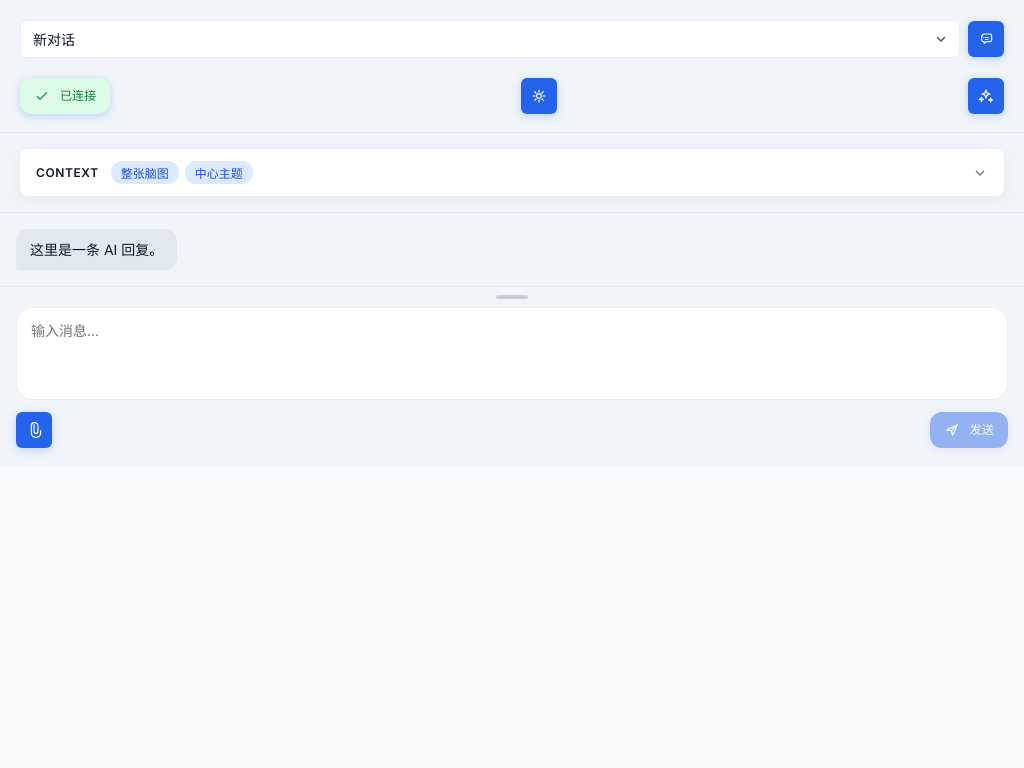
Test: AiSidebar › shows provider-specific ready copy for kimi code
Click the button with aria-label "检查状态" at (65, 96), box [20,78,110,114]
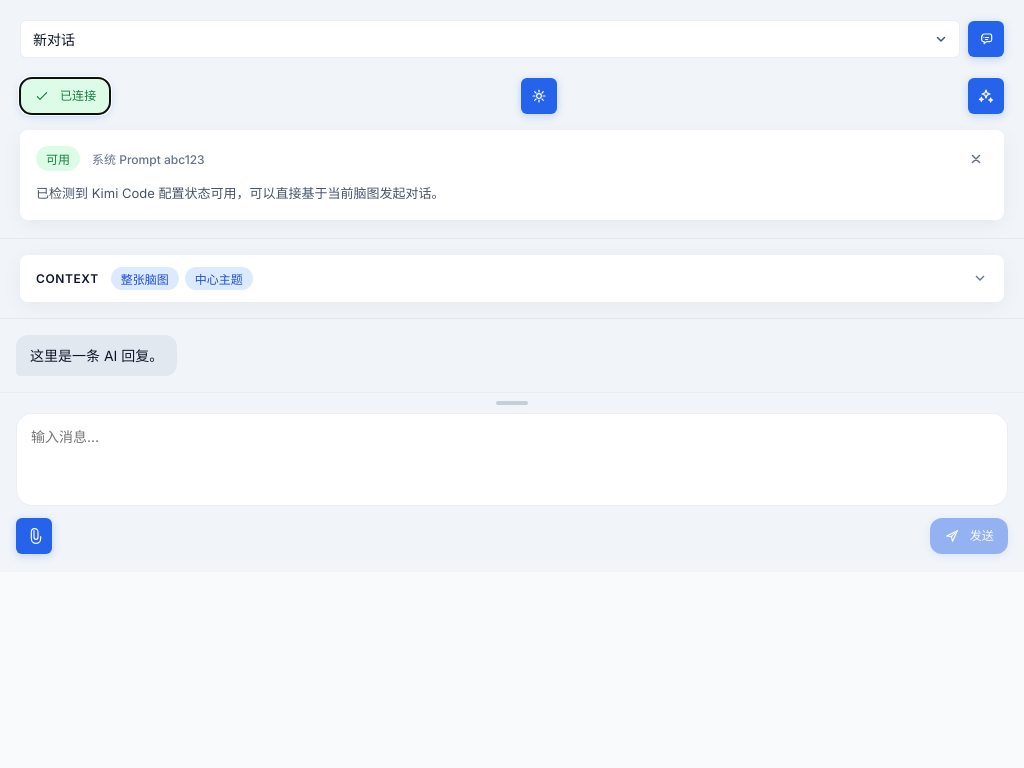
Now the text "已检测到 Kimi Code 配置状态可用，可以直接基于当前脑图发起对话。" is shown, box [36,185,444,201]
